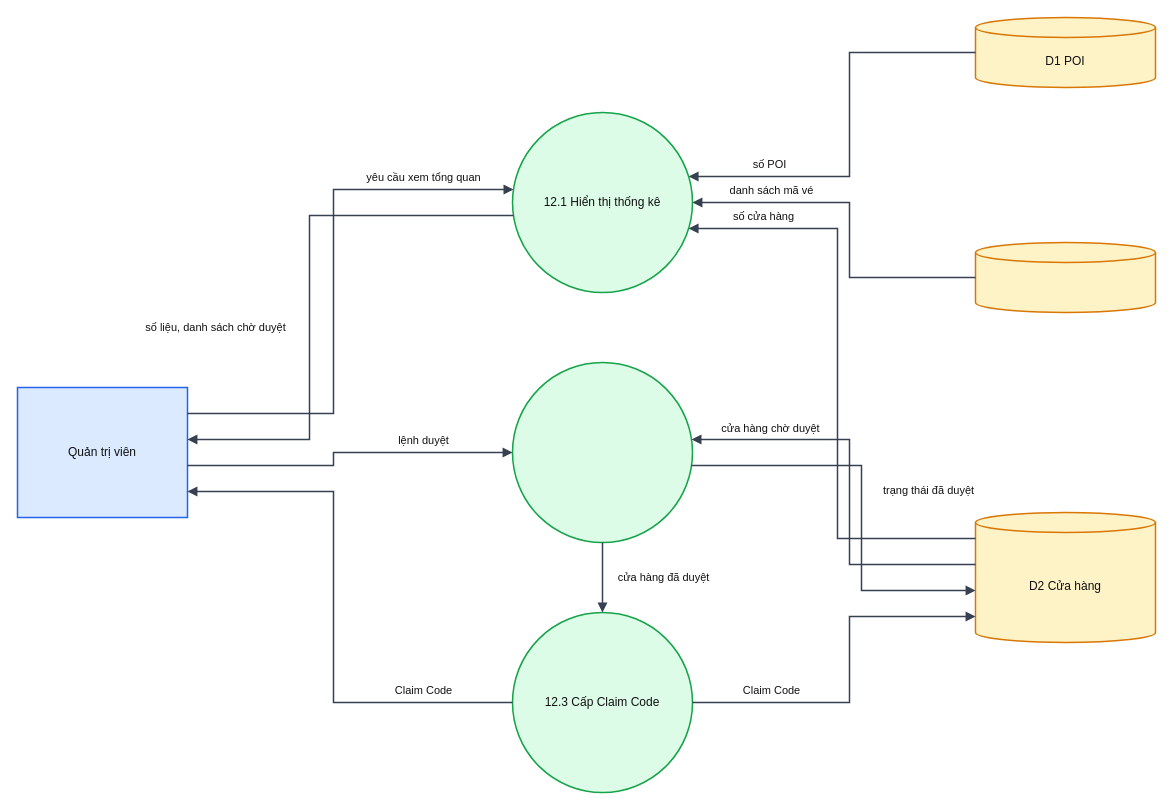
Some shapes in this 1174 by 811 pixel diagram are drawn without their labels. Each missing label, with the centre of its shape:
12.2 Duyệt cửa hàng: the point at 602,452
D3 Mã vé: the point at 1065,277
